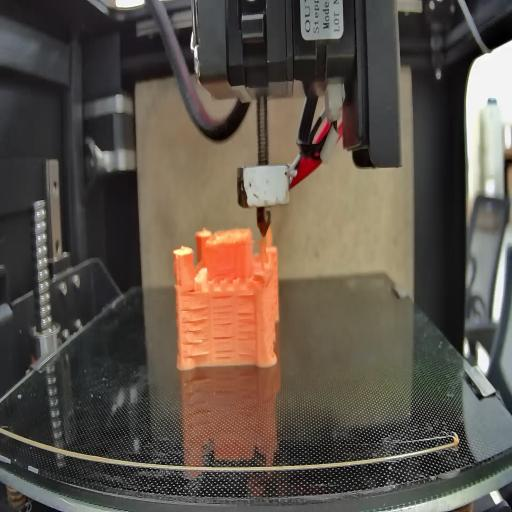cracks: (212, 292, 234, 362), (182, 304, 210, 354), (237, 309, 257, 359), (235, 290, 255, 299), (185, 284, 198, 296)
